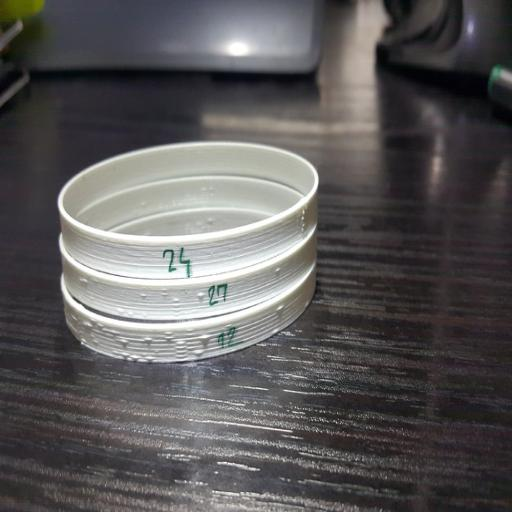blobs: (79, 315, 176, 370), (190, 318, 217, 364)
